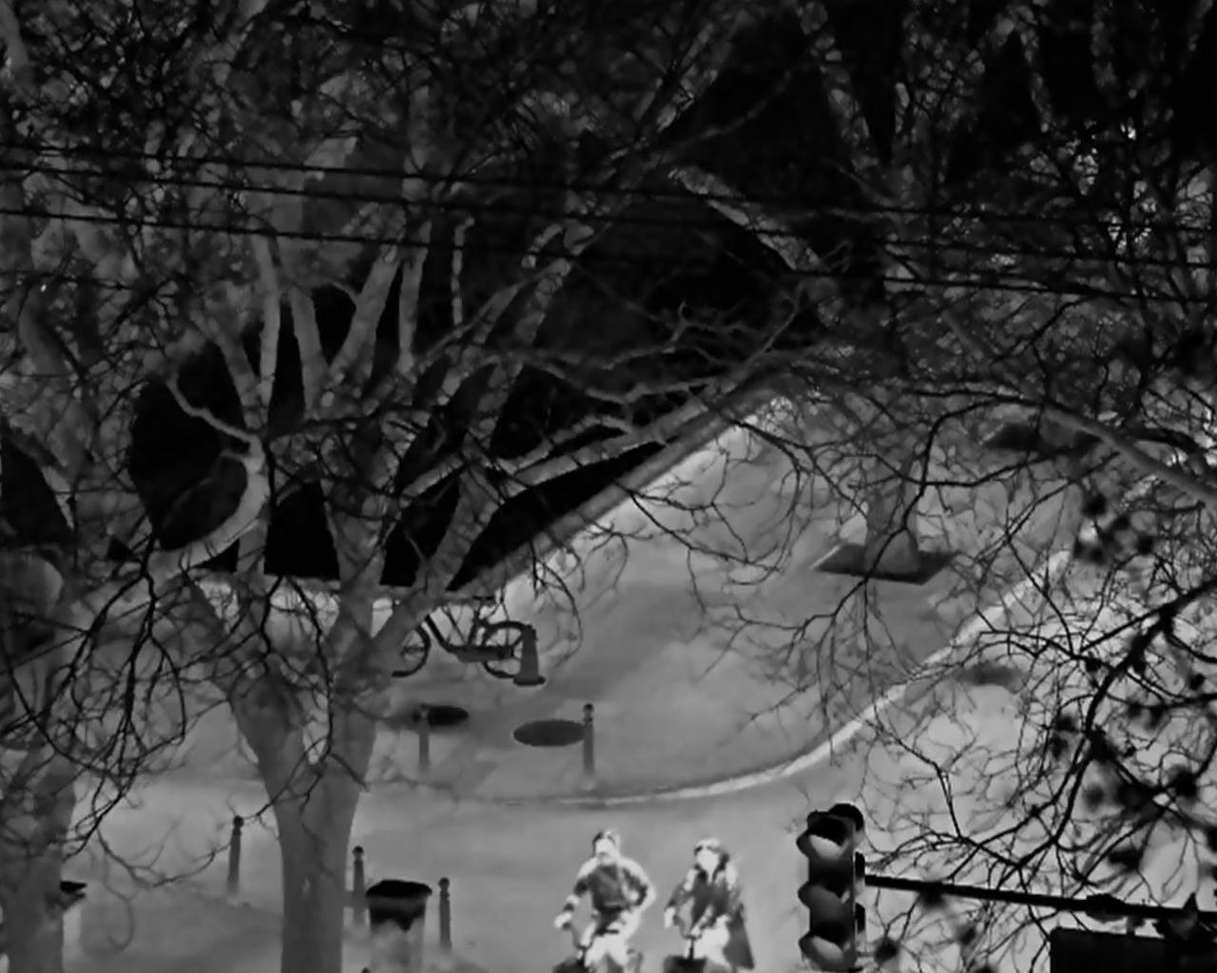person: (551, 829, 660, 973), (665, 837, 744, 973)
